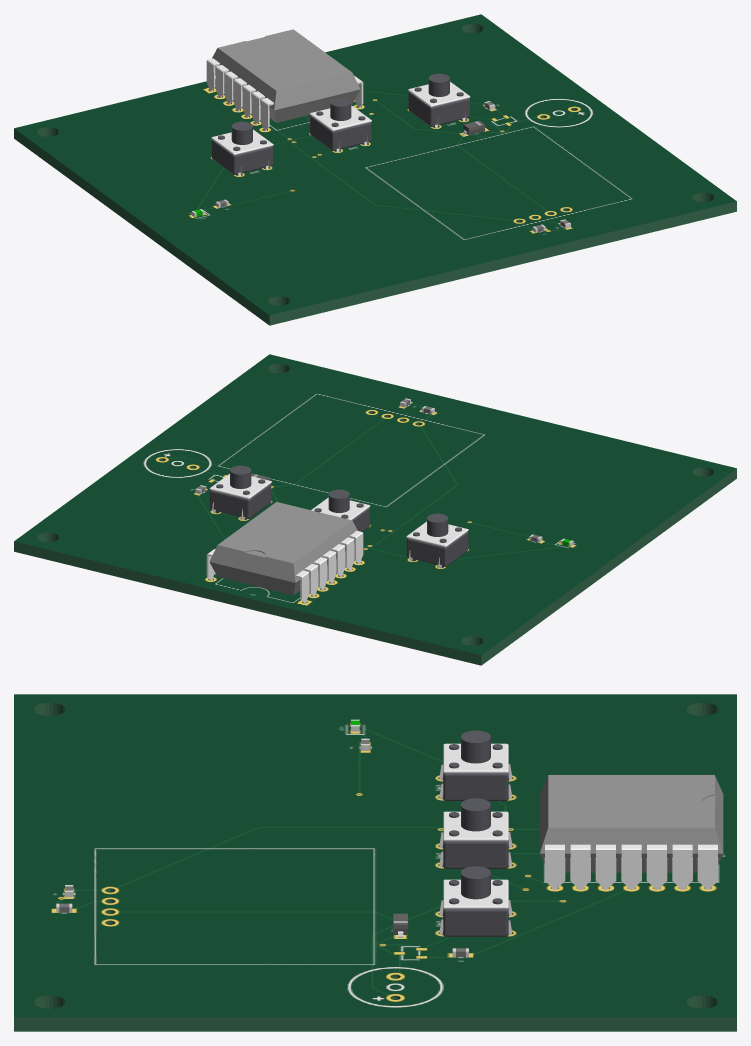
File: board.glb
3 renders of one model, top to bottom at view 1: azimuth 30°, elevation 25°; view 2: azimuth 150°, elevation 25°; view 3: azimuth 270°, elevation 25°, orthographic. The views are drawn at different scales.
Parts seen in each view (by area): view 1: Box0, U1, SW3, SW1, SW2; view 2: Box0, U1, SW3, SW1, SW2; view 3: Box0, U1, SW1, SW3, SW2.
Boxes of the visible parts, x1,y1,x2,y2 form: Box0: (14,14,736,325); U1: (206,29,363,130); SW3: (211,121,273,176); SW1: (408,73,470,127); SW2: (309,97,371,152); Box0: (14,354,736,665); U1: (206,502,363,603); SW3: (406,513,468,567); SW1: (209,465,271,519); SW2: (311,489,370,531); Box0: (14,694,736,1031); U1: (539,775,723,889); SW1: (439,866,512,936); SW3: (439,730,512,801); SW2: (439,798,512,868).
Bounding box in the file's own units: 76 × 9.79 × 72.
13 materials, 2 textured.
